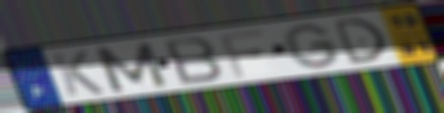B: (160, 34, 226, 86)
D: (330, 16, 391, 66)
F: (216, 28, 268, 80)
G: (280, 22, 343, 70)
K: (48, 49, 108, 98)
M: (90, 41, 172, 95)
